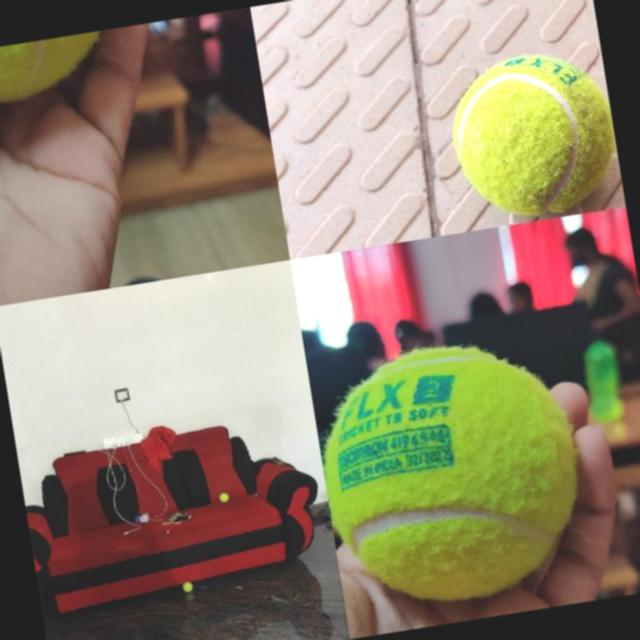tennis-ball: (308, 330, 594, 618), (442, 44, 624, 227), (182, 580, 192, 592), (219, 492, 229, 502)
